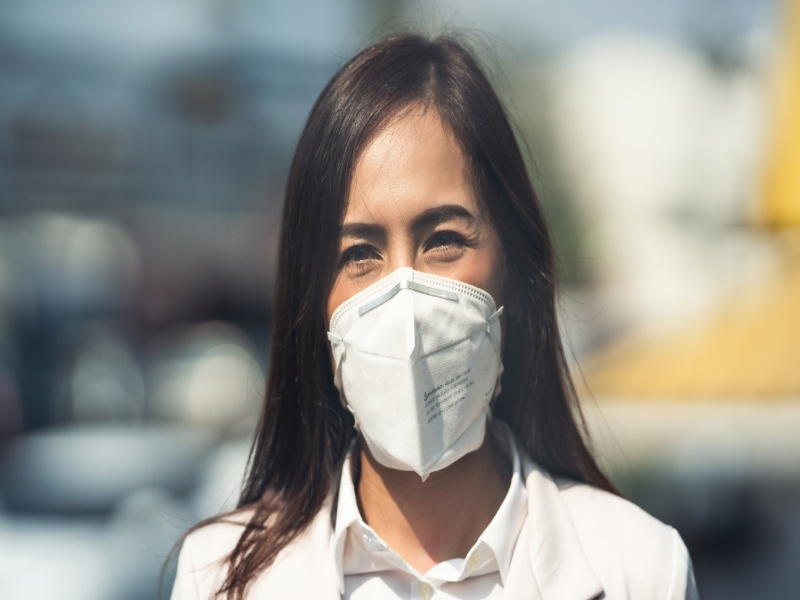mask: (325, 267, 510, 488)
